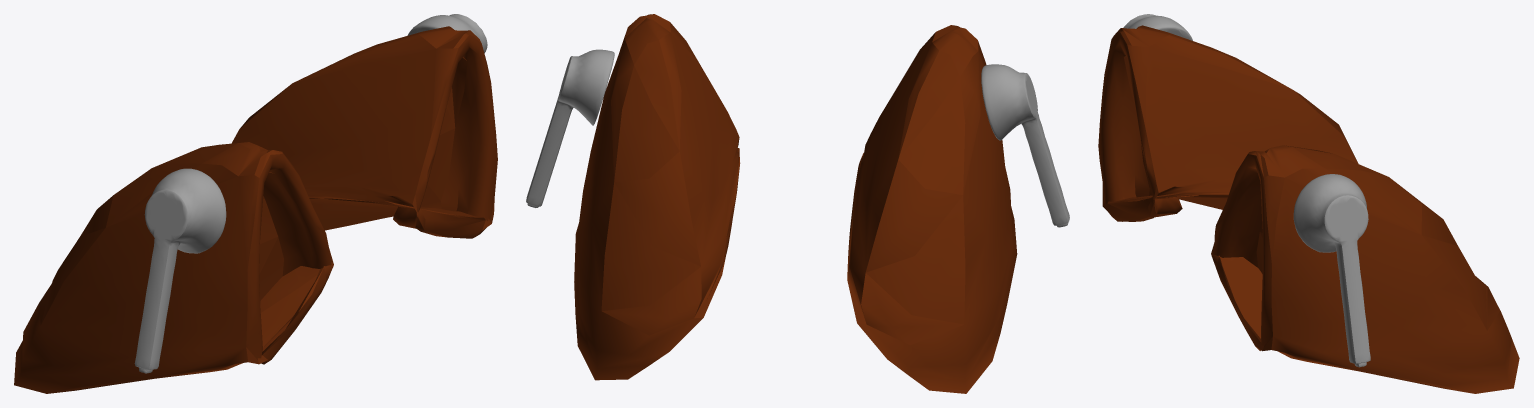
3 views of the same model, side by side, from view 1: azimuth 30°, elevation 25°; view 2: azimuth 150°, elevation 25°; view 3: azimuth 270°, elevation 25° (orthographic). The views are drawn at different scales.
Visible parts, largest first — view 1: ears_006.003, Elec_AC_001; view 2: ears_006.003, Elec_AC_001; view 3: ears_006.003, Elec_AC_001.
Part boxes in pixels (left/top/right/bottom): ears_006.003: left=14, top=26, right=497, bottom=393; Elec_AC_001: left=134, top=14, right=487, bottom=373; ears_006.003: left=574, top=14, right=1017, bottom=393; Elec_AC_001: left=526, top=49, right=1069, bottom=227; ears_006.003: left=1098, top=25, right=1519, bottom=393; Elec_AC_001: left=1123, top=14, right=1370, bottom=367.
Bounding box in the file's own units: 92.58 × 74.55 × 52.81.
